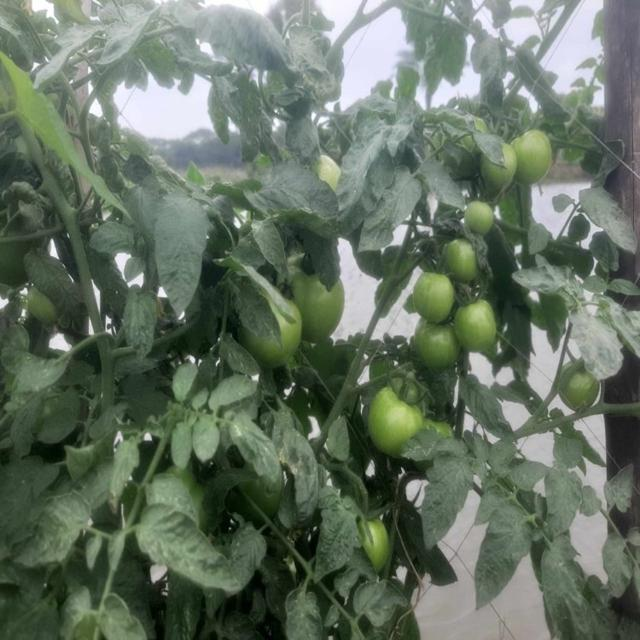tomato: (362, 381, 423, 449), (456, 293, 506, 356), (298, 276, 349, 335), (513, 131, 555, 187), (412, 272, 458, 321), (411, 322, 457, 365), (249, 331, 296, 369), (363, 514, 396, 567), (563, 367, 601, 407), (1, 229, 29, 281), (446, 243, 478, 287), (466, 201, 496, 239), (499, 144, 519, 184), (321, 152, 341, 187)
